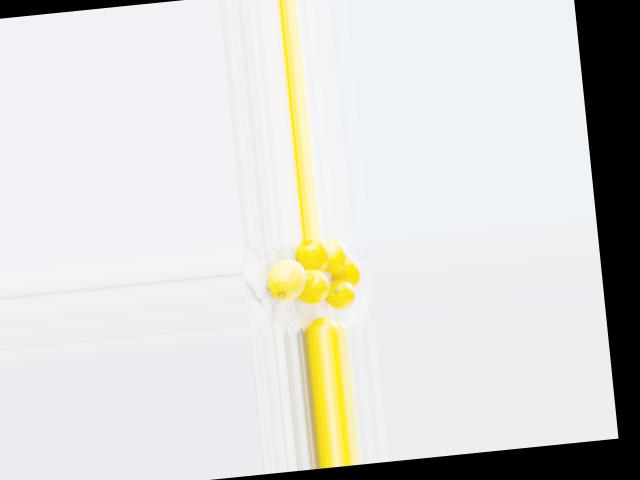lemon: (265, 252, 311, 308)
